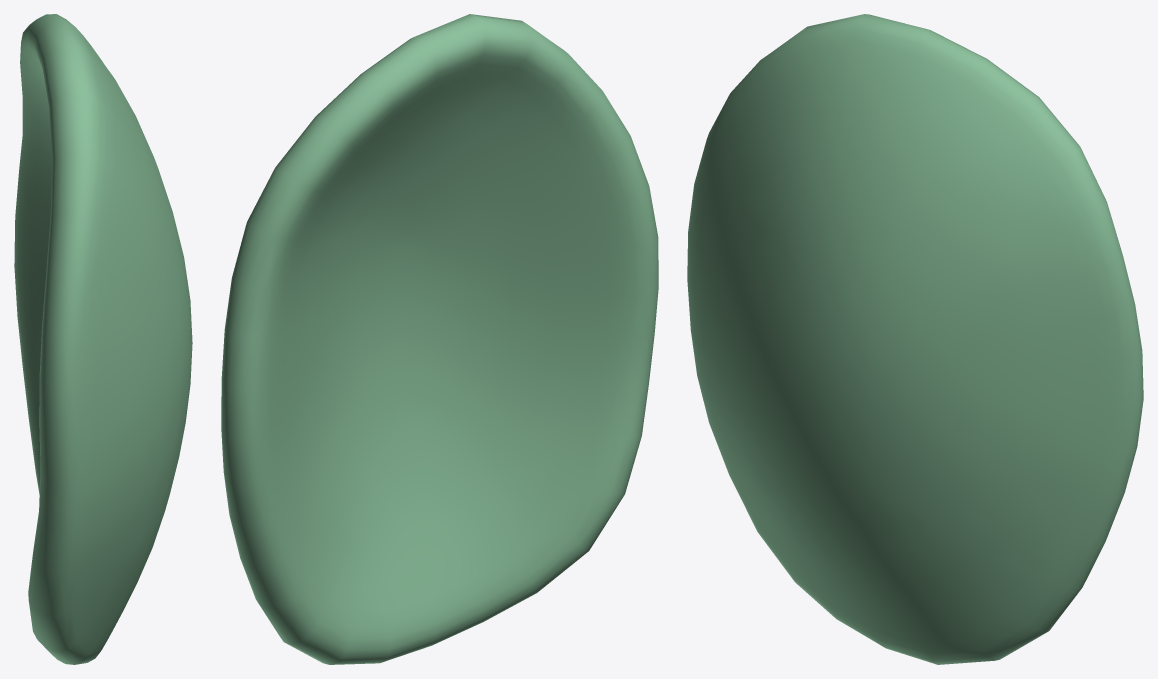
File: BR4_Enamel_Diamond.001.glb
The picture shows the model from 3 angles, left to right: view 1: azimuth 30°, elevation 25°; view 2: azimuth 150°, elevation 25°; view 3: azimuth 270°, elevation 25°; orthographic projection.
Visible parts, largest first — view 1: BR4_Enamel_Diamond.001; view 2: BR4_Enamel_Diamond.001; view 3: BR4_Enamel_Diamond.001.
Part boxes in pixels (x1=…): BR4_Enamel_Diamond.001: x1=14, y1=14, x2=192, y2=664; BR4_Enamel_Diamond.001: x1=221, y1=14, x2=658, y2=664; BR4_Enamel_Diamond.001: x1=687, y1=14, x2=1143, y2=664.
Size of the model in its own units: 0.3467 by 0.8627 by 0.5764.
